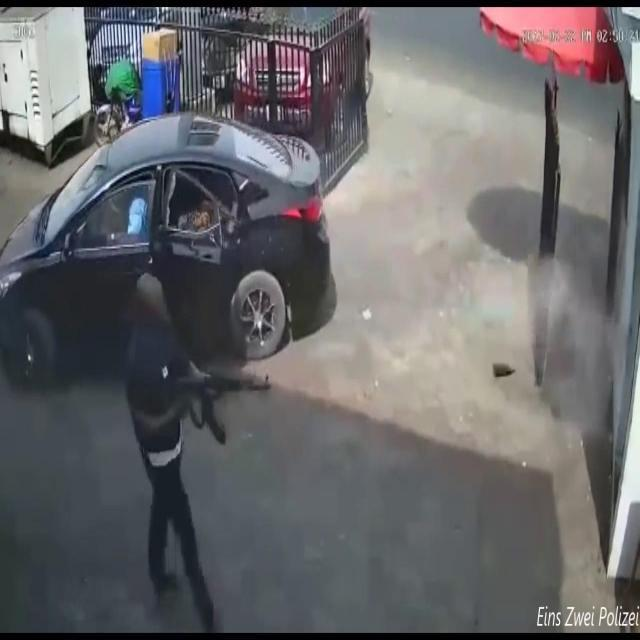pistol: (144, 372, 274, 448)
